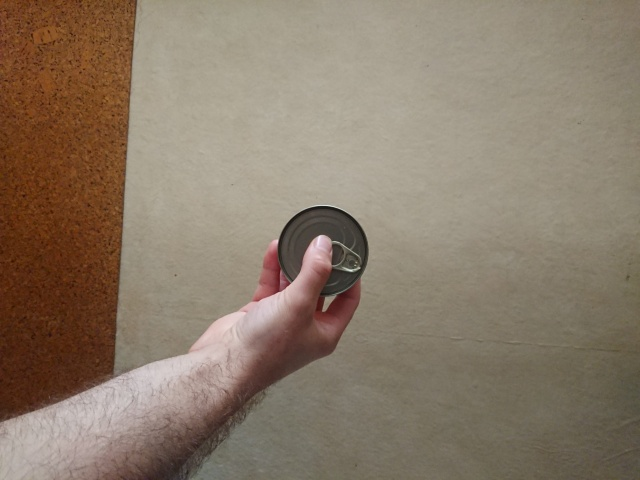Gavrilovic Pork Liver Pate 100g: (275, 203, 371, 298)
